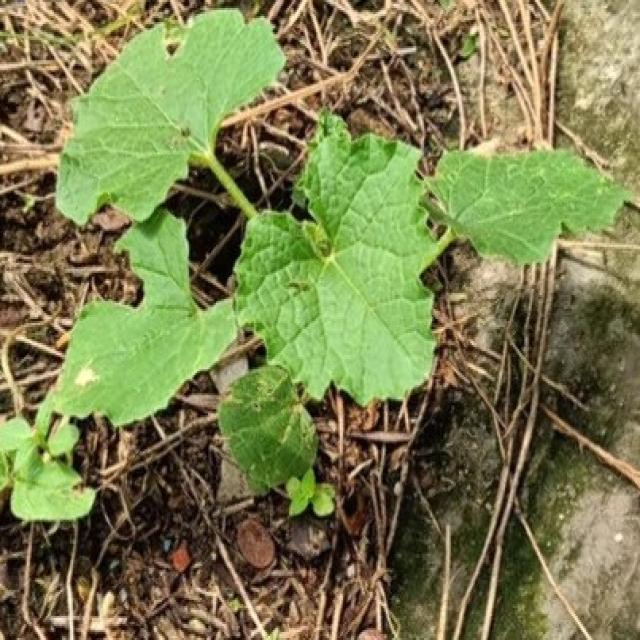plant: (0, 9, 625, 521)
